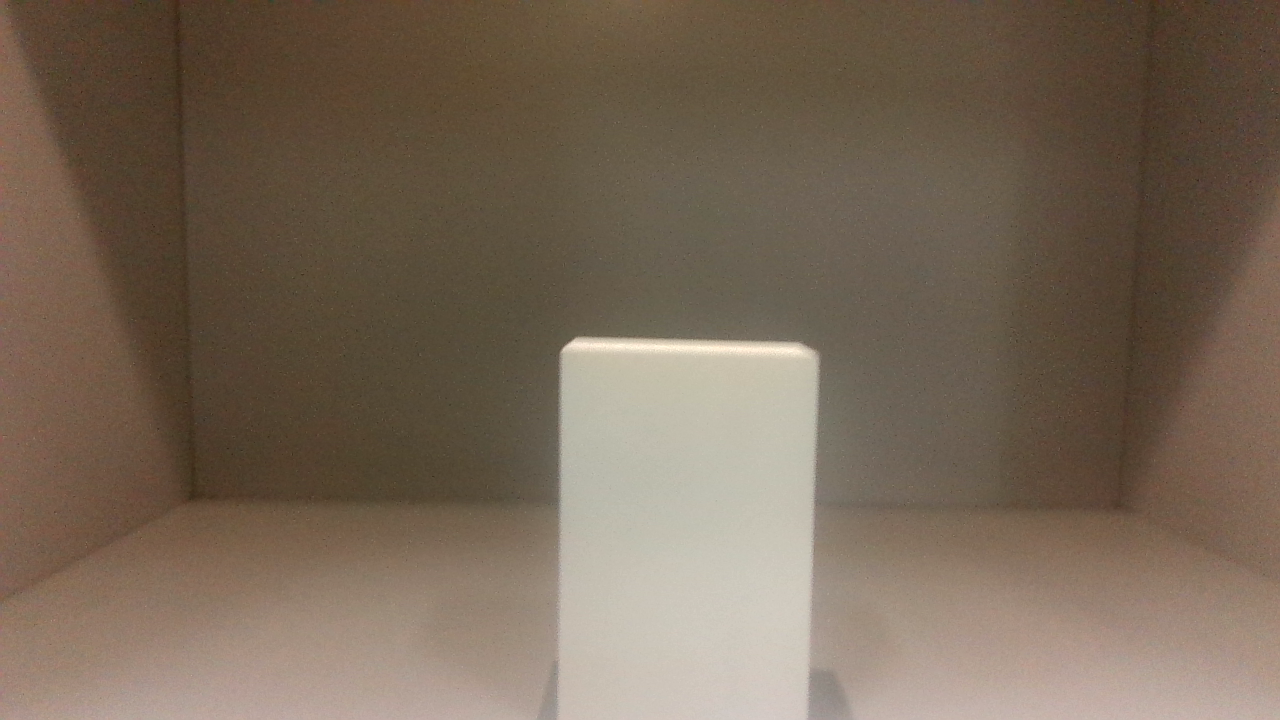Retangulo: (558, 337, 817, 719)
